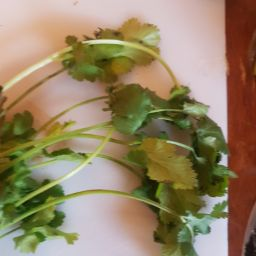Cilantro: (53, 10, 243, 217), (64, 29, 234, 254), (109, 79, 226, 238), (1, 72, 91, 256)
